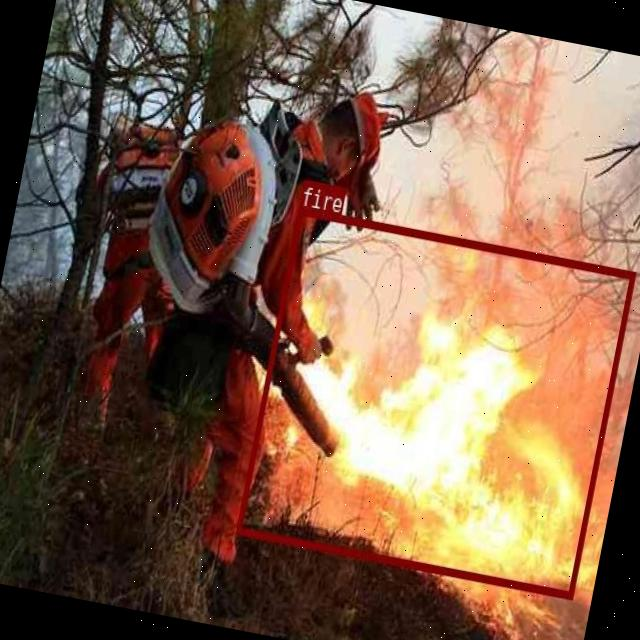fire: (235, 206, 635, 598)
